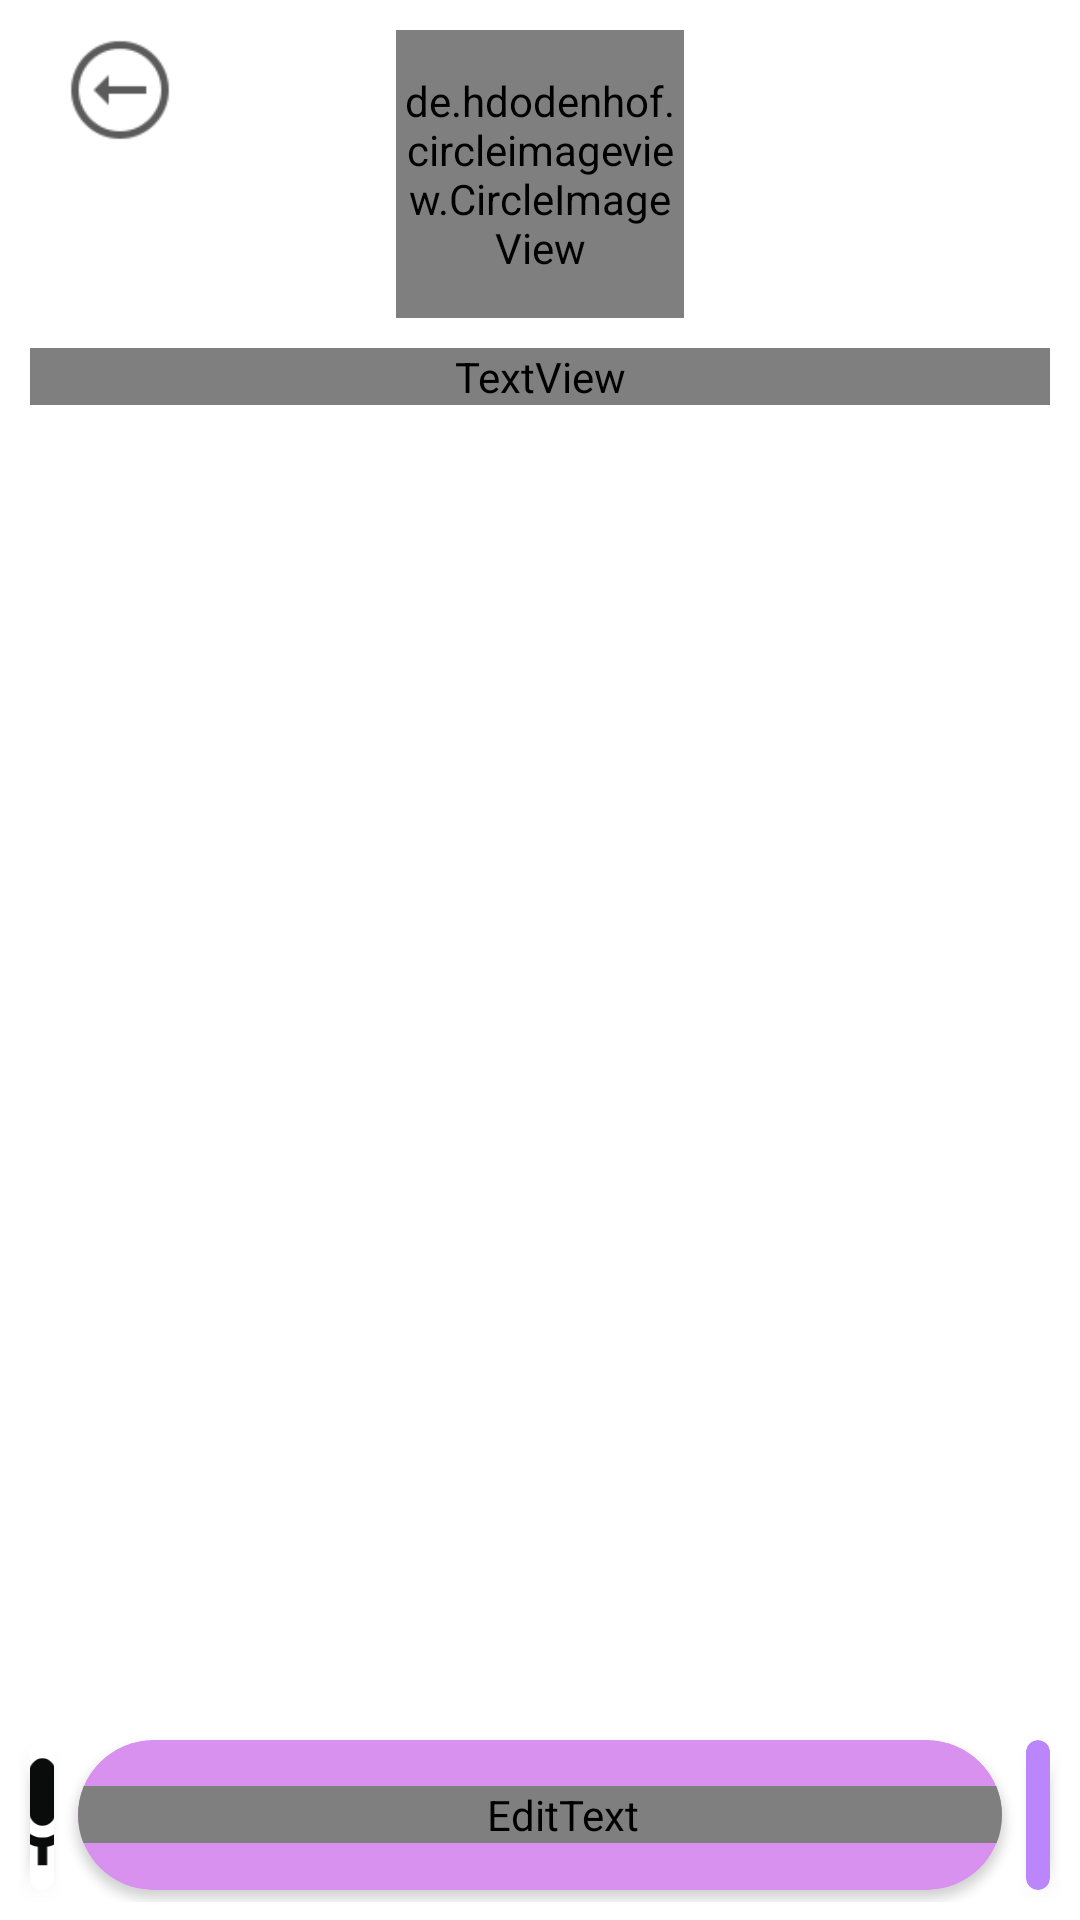

Point at icon controls on the screen. Image size 1080 x 1920, points as (x,y).
back: (120,90)
